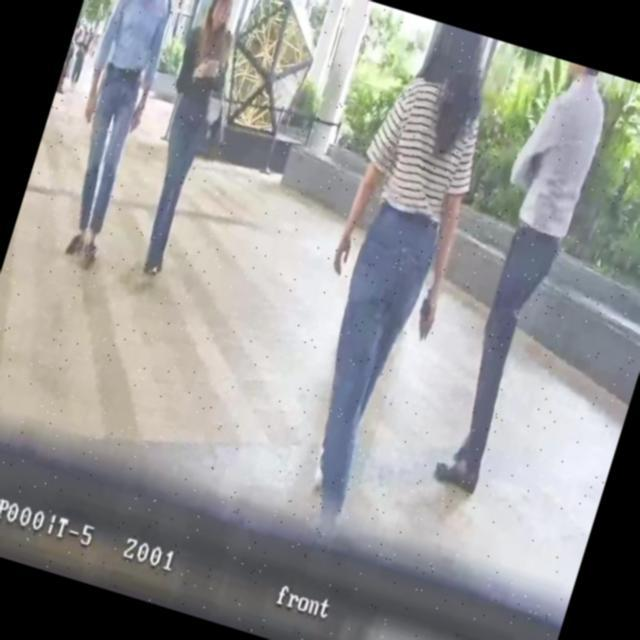person: (255, 12, 518, 543), (416, 54, 618, 500), (37, 0, 194, 264), (117, 0, 254, 282), (61, 20, 94, 90), (66, 23, 96, 89), (55, 24, 82, 94)
